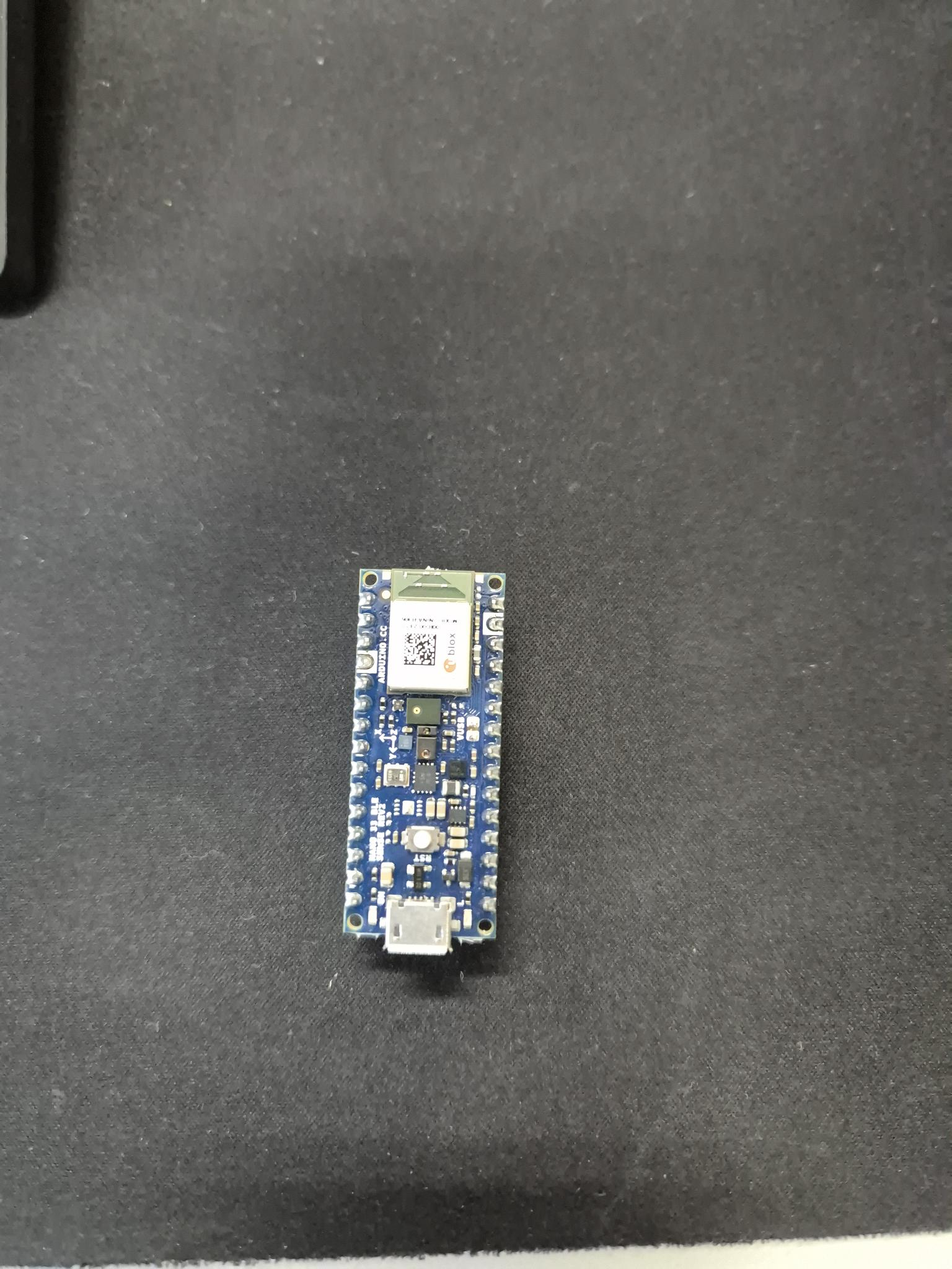arduino-nano-ble-sense: (344, 569, 505, 954)
